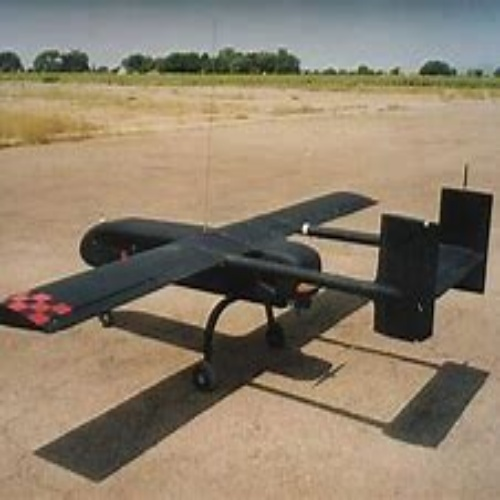uav: (5, 161, 494, 344)
